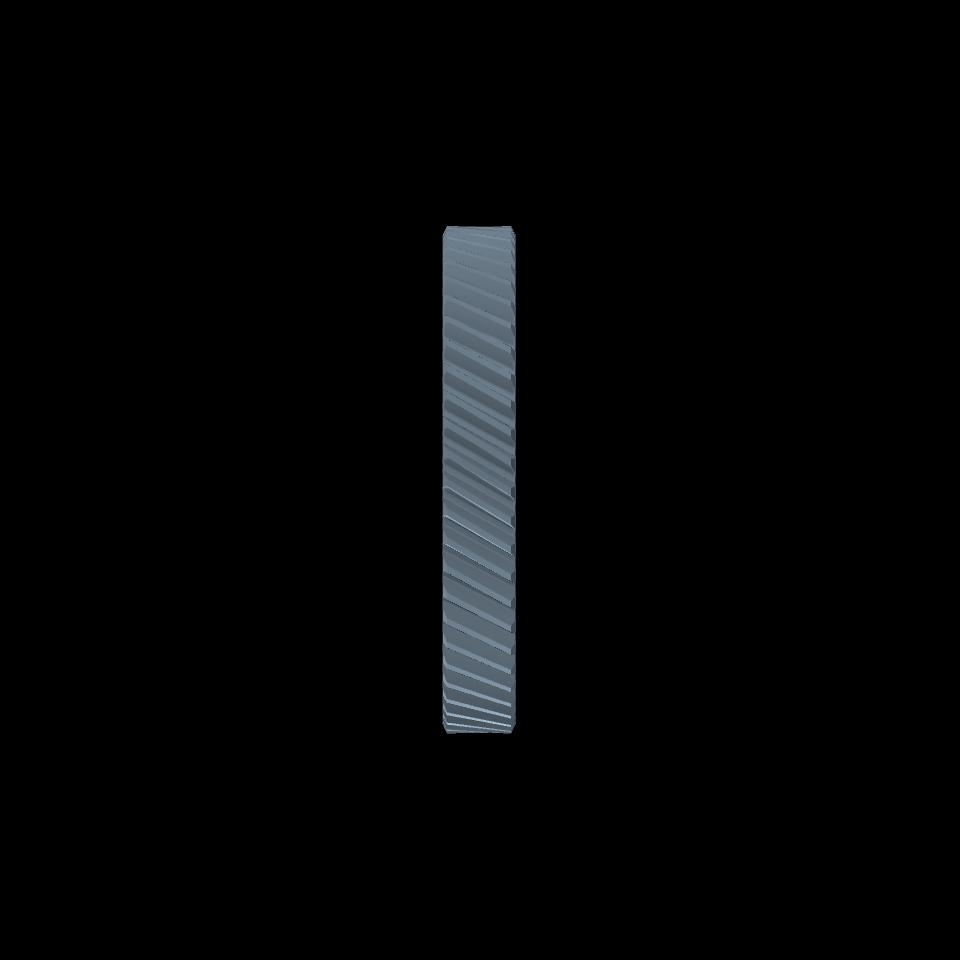Helical: (450, 227, 509, 732)
